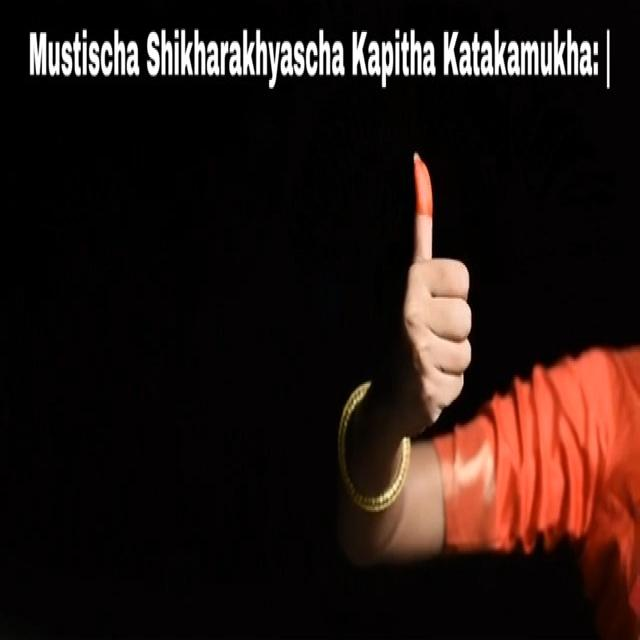Shikhara: (370, 140, 490, 439)
bangle: (324, 403, 420, 519)
text: (14, 18, 616, 99)
